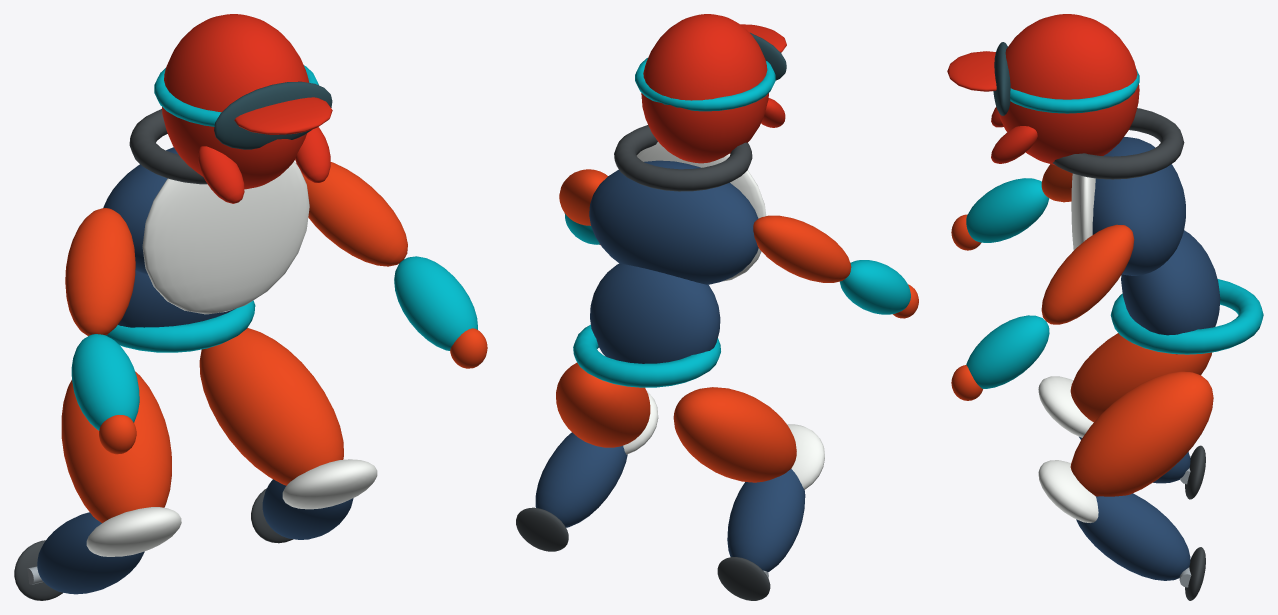
Rendered from rider.glb.
3 renders of one model, left to right at view 1: azimuth 30°, elevation 25°; view 2: azimuth 150°, elevation 25°; view 3: azimuth 270°, elevation 25°, orthographic. The views are drawn at different scales.
Visible parts, largest first — view 1: chest_plate, head, thigh_r, thigh_l, upperarm_l, upperarm_r, torso, forearm_r, forearm_l, shin_l, waist_belt, knee_guard_l (+10 smaller); view 2: torso, head, thigh_l, shin_l, thigh_r, shin_r, upperarm_l, collar, waist_belt, forearm_l, goggle_strap, boot_r (+7 smaller); view 3: head, torso, thigh_r, shin_r, thigh_l, upperarm_r, waist_belt, forearm_r, collar, forearm_l, knee_guard_r, goggle_strap (+10 smaller).
Boxes of the visible parts, bbox=[...] form: chest_plate: bbox=[142, 161, 309, 314]; head: bbox=[162, 14, 330, 203]; thigh_r: bbox=[199, 328, 343, 485]; thigh_l: bbox=[61, 371, 171, 523]; upperarm_l: bbox=[65, 208, 135, 335]; upperarm_r: bbox=[301, 162, 407, 266]; torso: bbox=[103, 147, 235, 327]; forearm_r: bbox=[394, 256, 477, 350]; forearm_l: bbox=[71, 334, 139, 430]; shin_l: bbox=[37, 512, 144, 594]; waist_belt: bbox=[106, 300, 255, 352]; knee_guard_l: bbox=[86, 507, 181, 556]; torso: bbox=[589, 160, 758, 363]; head: bbox=[641, 14, 785, 163]; thigh_l: bbox=[673, 387, 796, 482]; shin_l: bbox=[727, 468, 805, 572]; thigh_r: bbox=[556, 362, 650, 447]; shin_r: bbox=[535, 432, 627, 527]; upperarm_l: bbox=[753, 215, 851, 282]; collar: bbox=[614, 125, 752, 191]; waist_belt: bbox=[573, 324, 720, 387]; forearm_l: bbox=[840, 260, 910, 314]; goggle_strap: bbox=[635, 58, 775, 111]; boot_r: bbox=[516, 507, 568, 551]; head: bbox=[991, 14, 1139, 165]; torso: bbox=[1092, 137, 1220, 354]; thigh_r: bbox=[1070, 371, 1213, 496]; shin_r: bbox=[1076, 493, 1190, 580]; thigh_l: bbox=[1070, 333, 1212, 422]; upperarm_r: bbox=[1041, 224, 1134, 324]; waist_belt: bbox=[1110, 279, 1263, 354]; forearm_r: bbox=[966, 315, 1049, 388]; collar: bbox=[1053, 108, 1184, 179]; forearm_l: bbox=[966, 178, 1049, 242]; knee_guard_r: bbox=[1038, 460, 1098, 522]; goggle_strap: bbox=[1010, 69, 1139, 113].
Bounding box in the file's own units: 0.9551 × 1.41 × 0.765.
